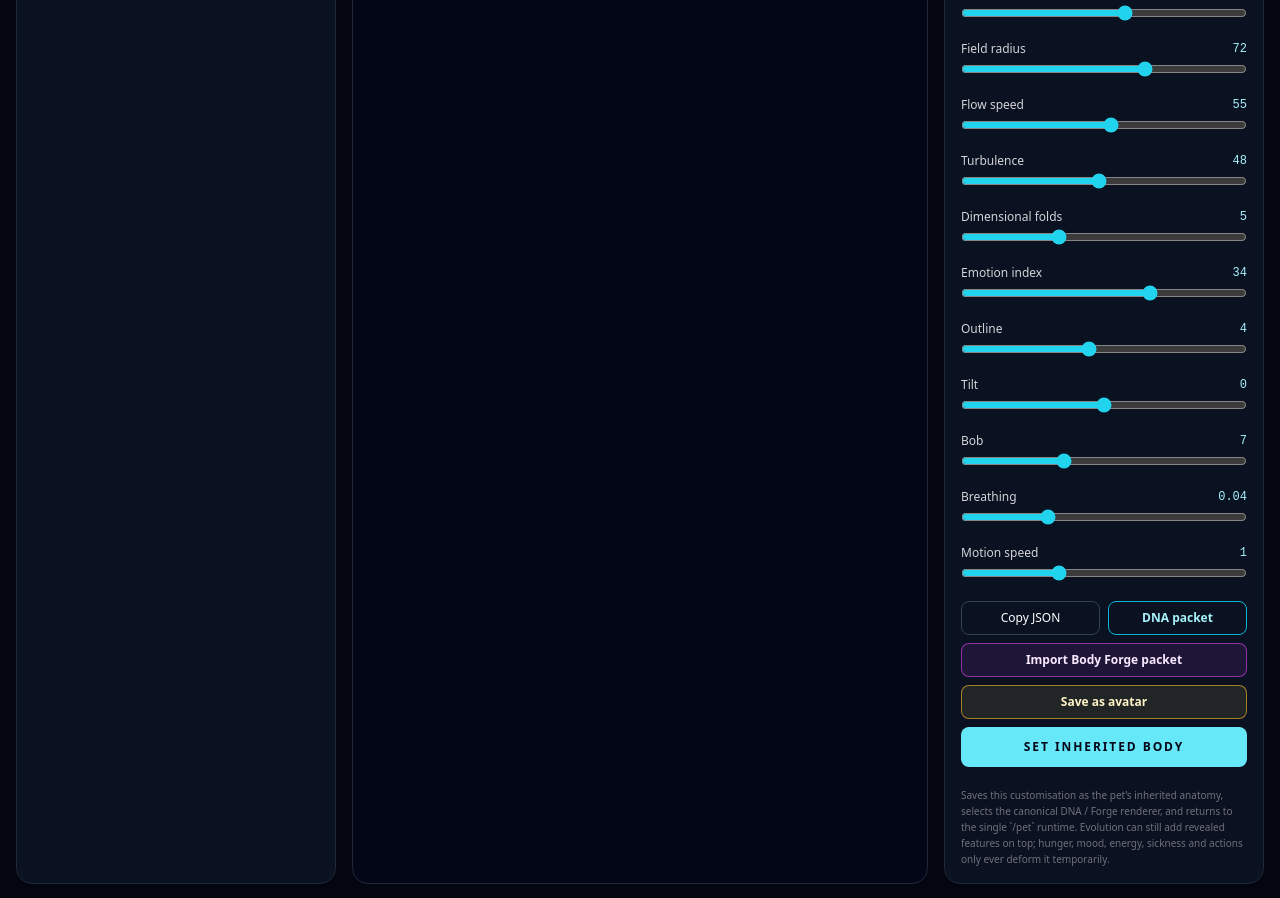
Test: Body Forge identity avatar export › rejects an oversized export without changing the identity profile
(page scrolled)
What coordinates should you click on to do the following:
click the button "Save as avatar"
I would click on:
 (1104, 702)
Its box is [961,684,1247,718].
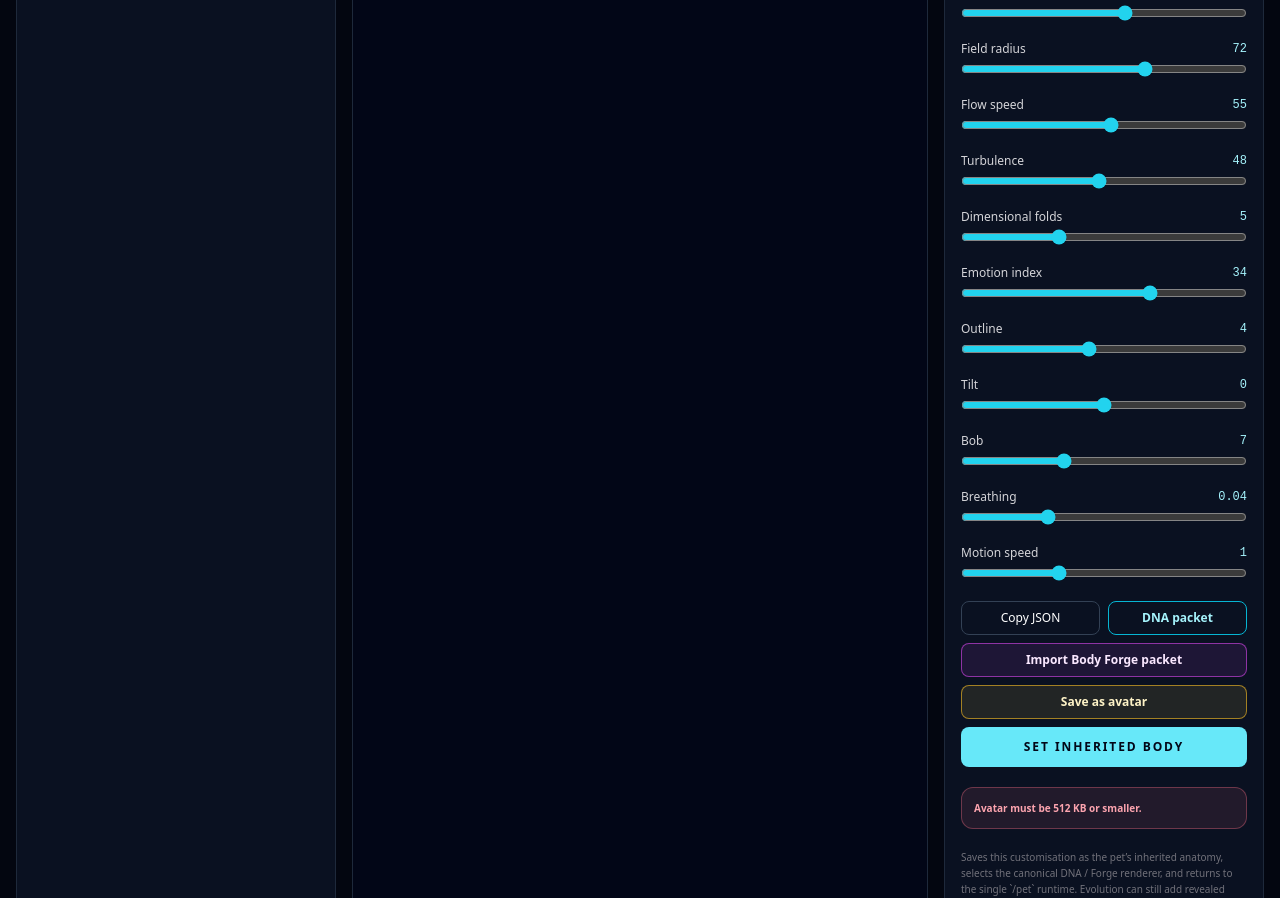
Expected: the text "Avatar must be 512 KB or smaller." is shown, [974,800,1142,814]
